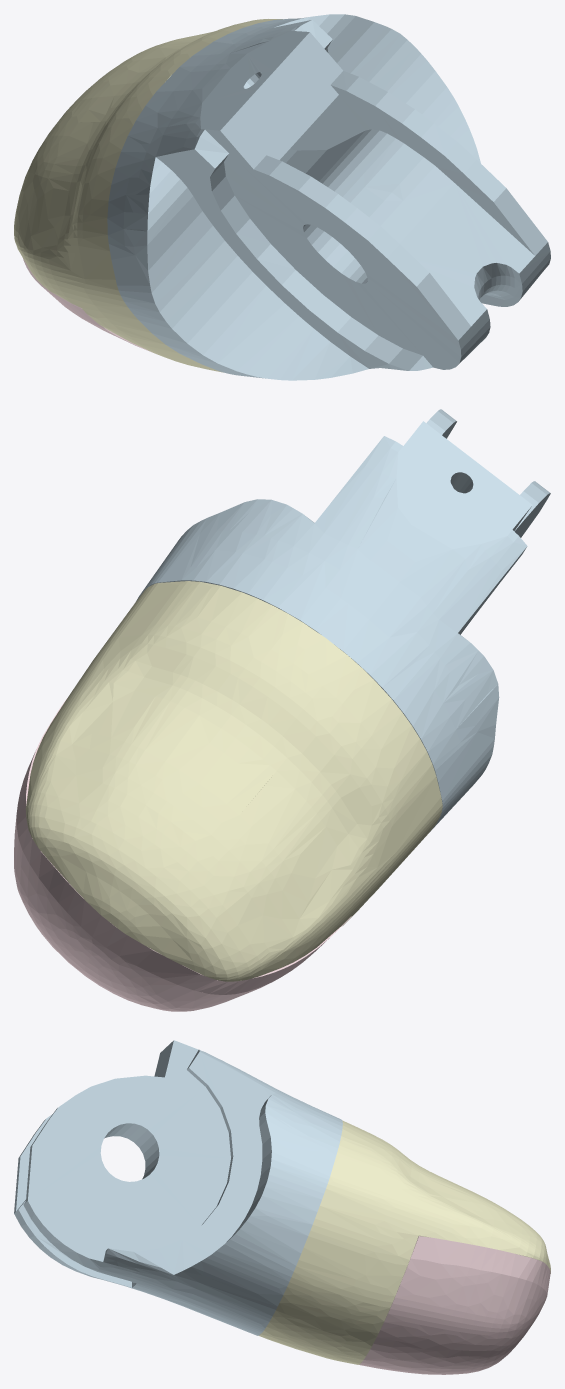
The model's file is i02_rightHand_ringFingerTip_visual.obj.balanced.glb.
3 renders of one model, top to bottom at view 1: azimuth 30°, elevation 25°; view 2: azimuth 150°, elevation 25°; view 3: azimuth 270°, elevation 25°, orthographic. The views are drawn at different scales.
Bounding box in the file's own units: 0.1602 × 0.2072 × 0.326.
